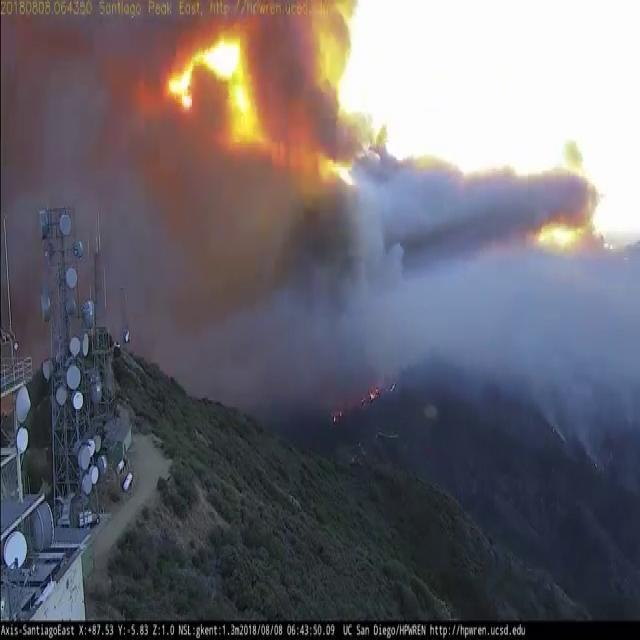Fire: (368, 389, 374, 398)
Smoke: (9, 23, 631, 473), (172, 238, 640, 476), (420, 258, 640, 480), (157, 311, 268, 420), (344, 243, 414, 399), (574, 395, 605, 473), (545, 390, 566, 442)
